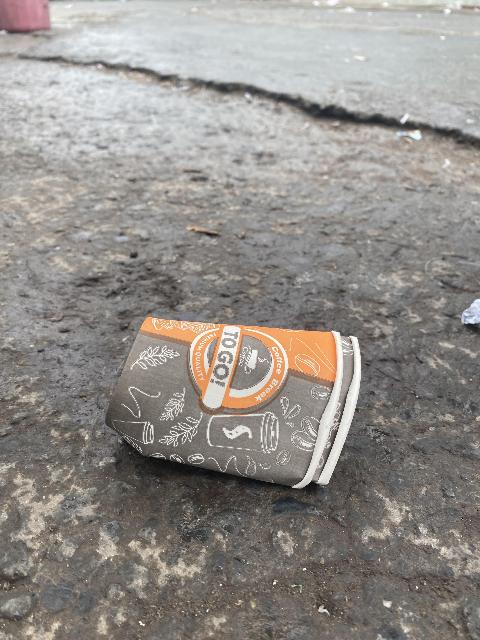Kagit: (90, 292, 389, 490)
